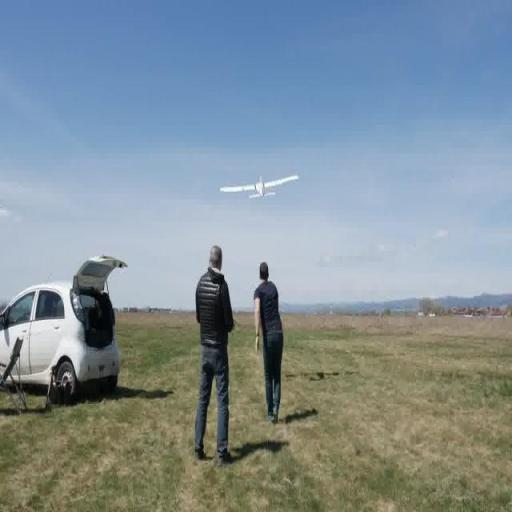uav: (217, 170, 303, 204)
